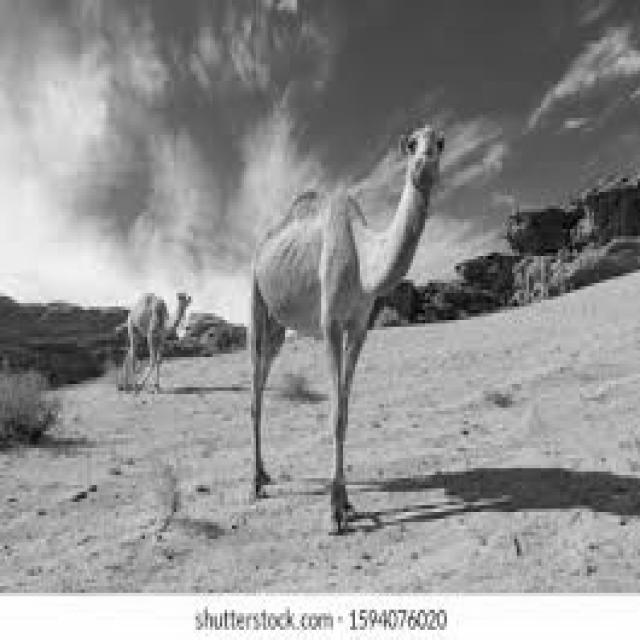Camel: (246, 121, 444, 532), (113, 286, 191, 391)
